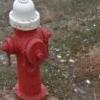a fire hydrant: (0, 0, 54, 99)
